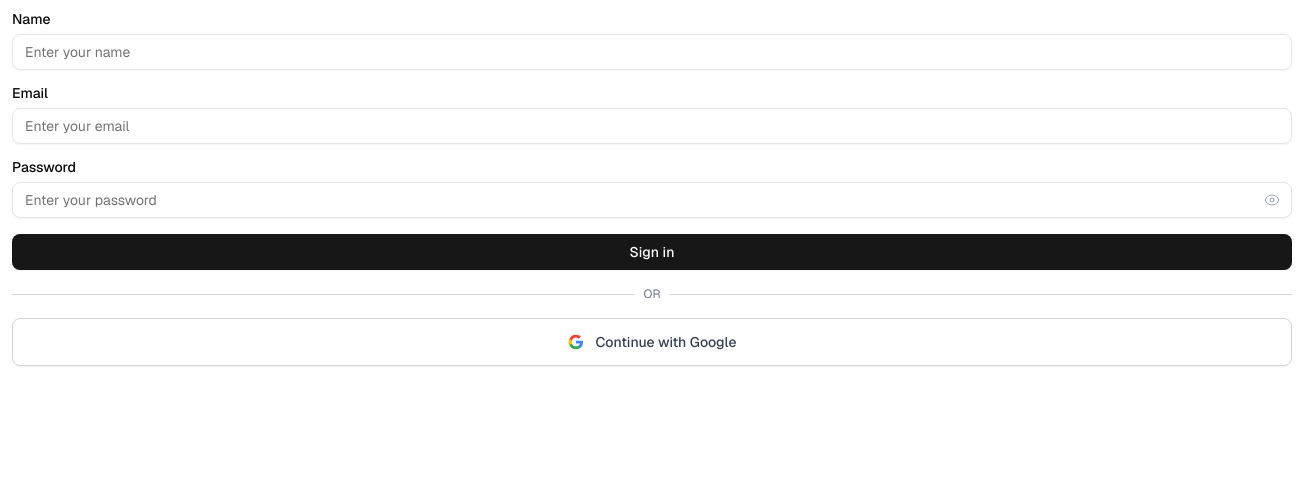
Scenario: SignUpForm Component › Loading State › disables all inputs during submission
Step 1. Type "John Doe" into the field labelled "Name" → coordinates (652, 52), box left=12, top=34, right=1292, bottom=70
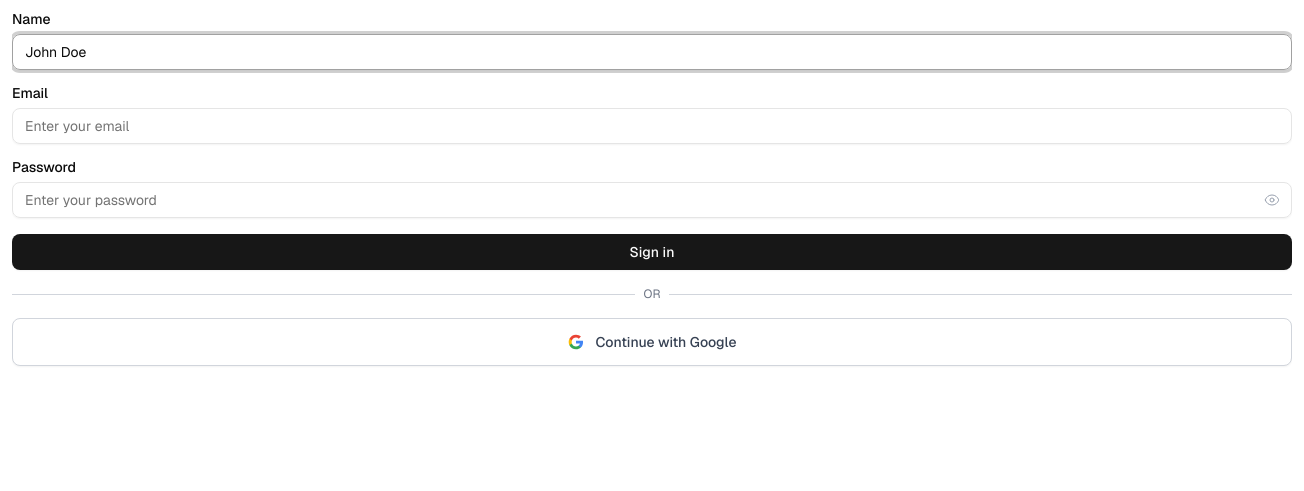
Step 2. Type "john@example.com" into the field labelled "Email" → coordinates (652, 126), box left=12, top=108, right=1292, bottom=144
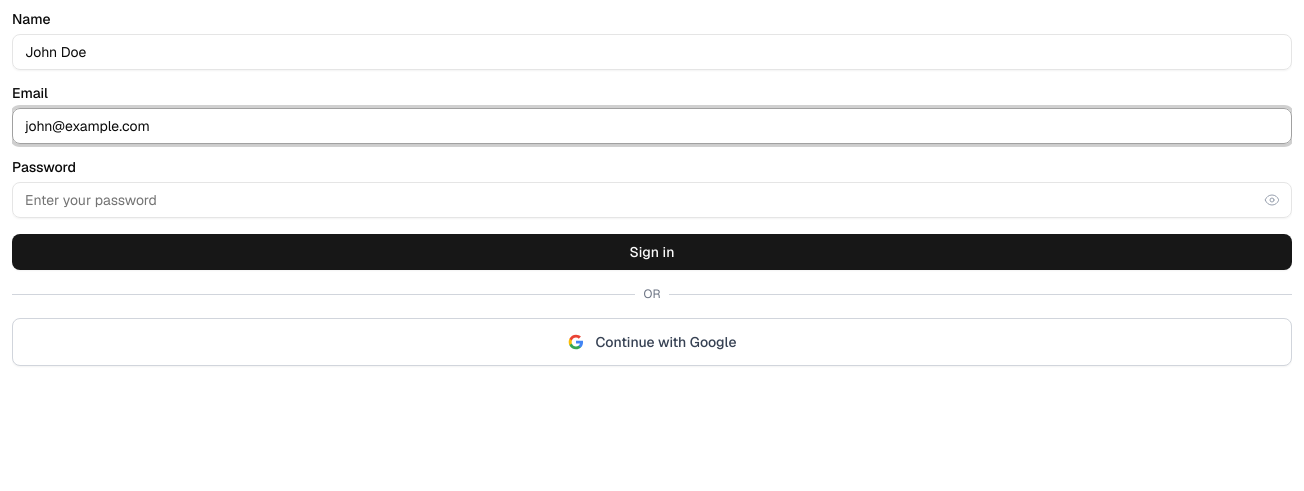
Step 3. Type "SecurePassword123!" into the password field labelled "Password" → coordinates (652, 200), box left=12, top=182, right=1292, bottom=218
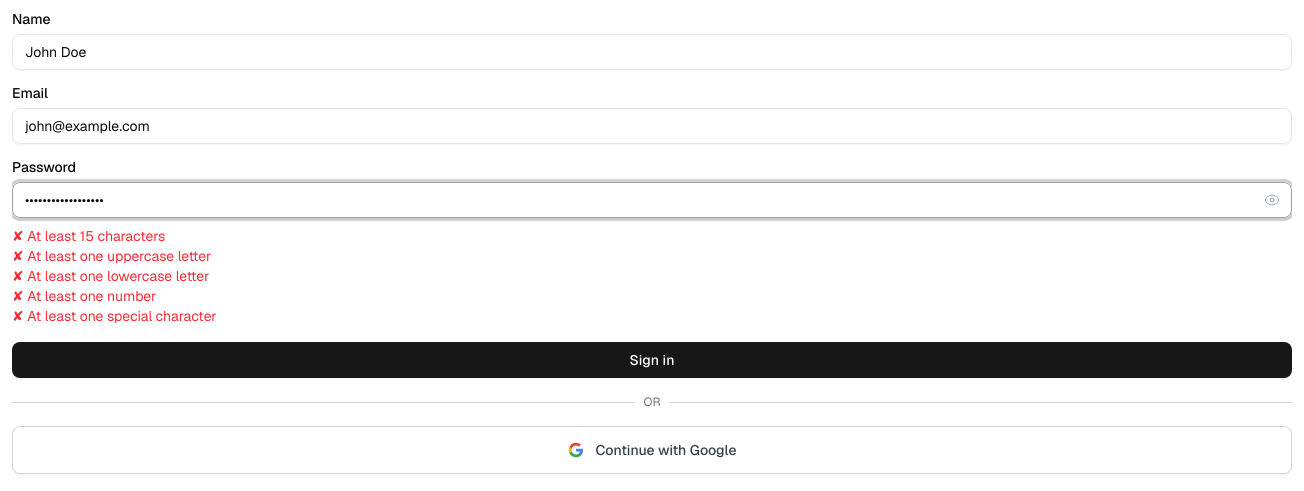
Step 4. Click the button "Sign in" → coordinates (652, 360), box left=12, top=342, right=1292, bottom=378
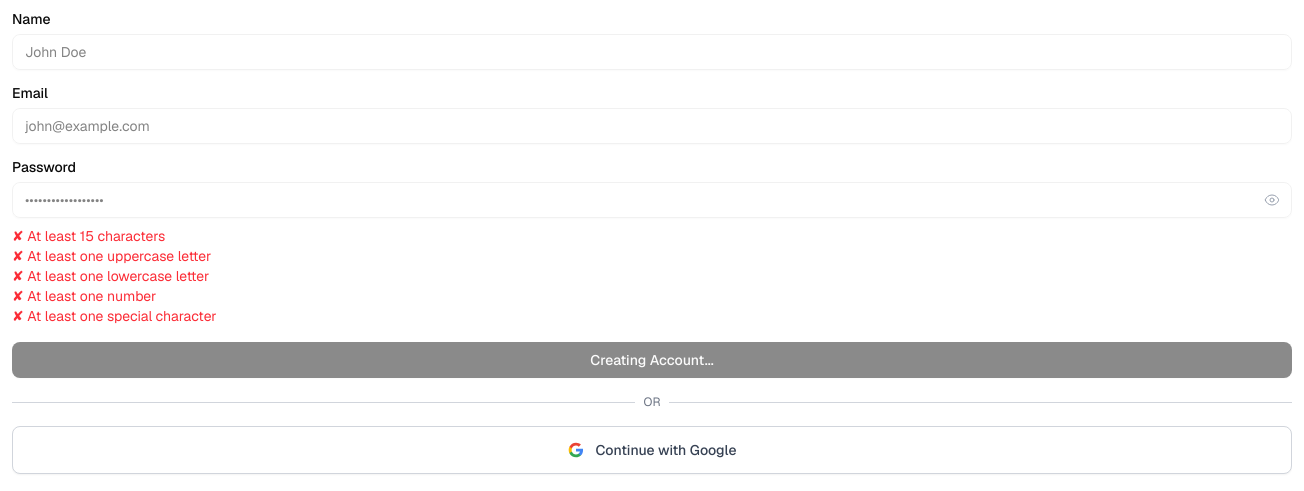
expect the field labelled "Name" is disabled: met, box left=12, top=34, right=1292, bottom=70
expect the field labelled "Email" is disabled: met, box left=12, top=108, right=1292, bottom=144
expect the password field labelled "Password" is disabled: met, box left=12, top=182, right=1292, bottom=218
